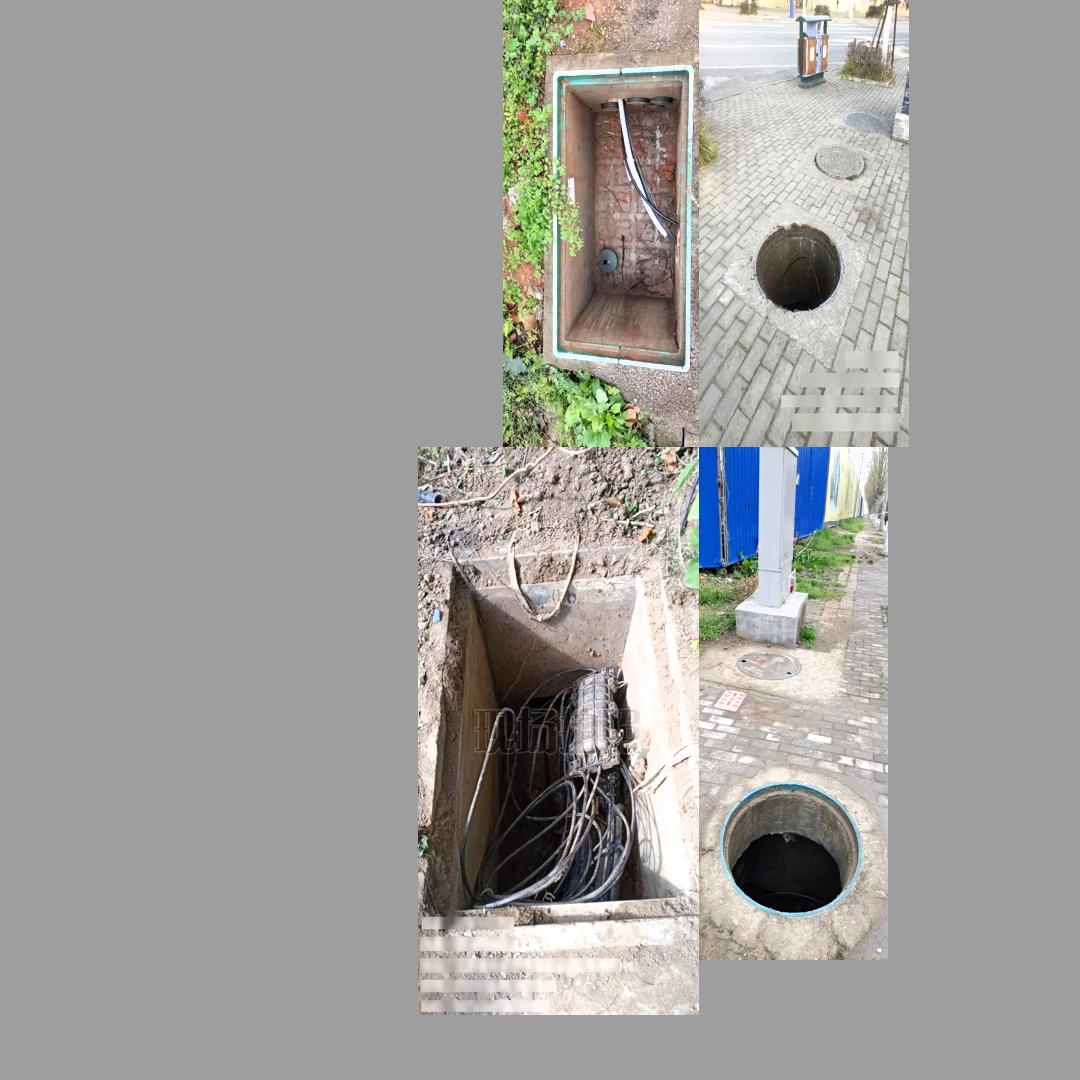good: (814, 142, 865, 181), (844, 110, 885, 134)
lose: (426, 530, 693, 939), (552, 62, 694, 372), (718, 780, 862, 917), (752, 220, 844, 314)
